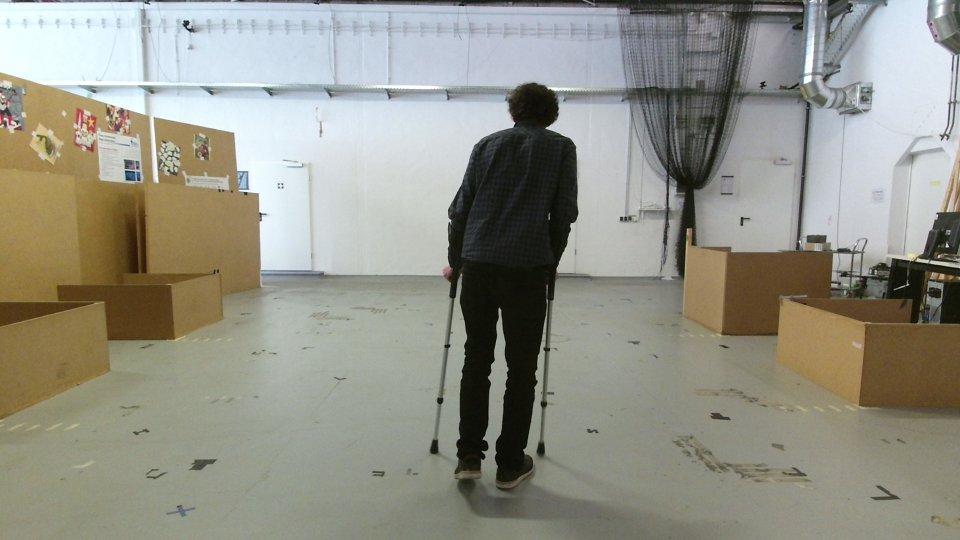crutches: (427, 77, 582, 491)
